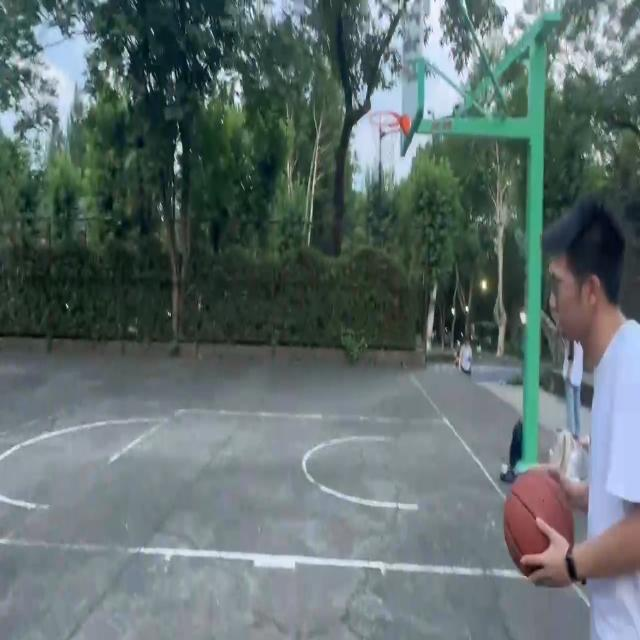basketball: (370, 106, 409, 170)
rim: (507, 462, 574, 586)
